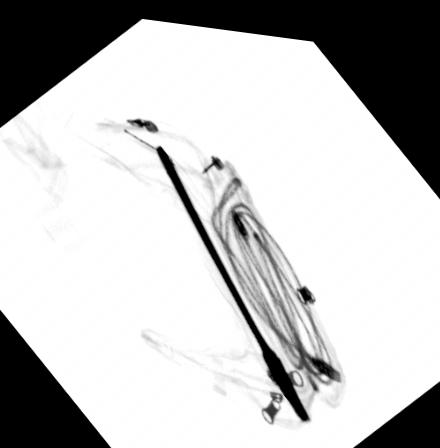Wrench: (152, 136, 314, 415)
